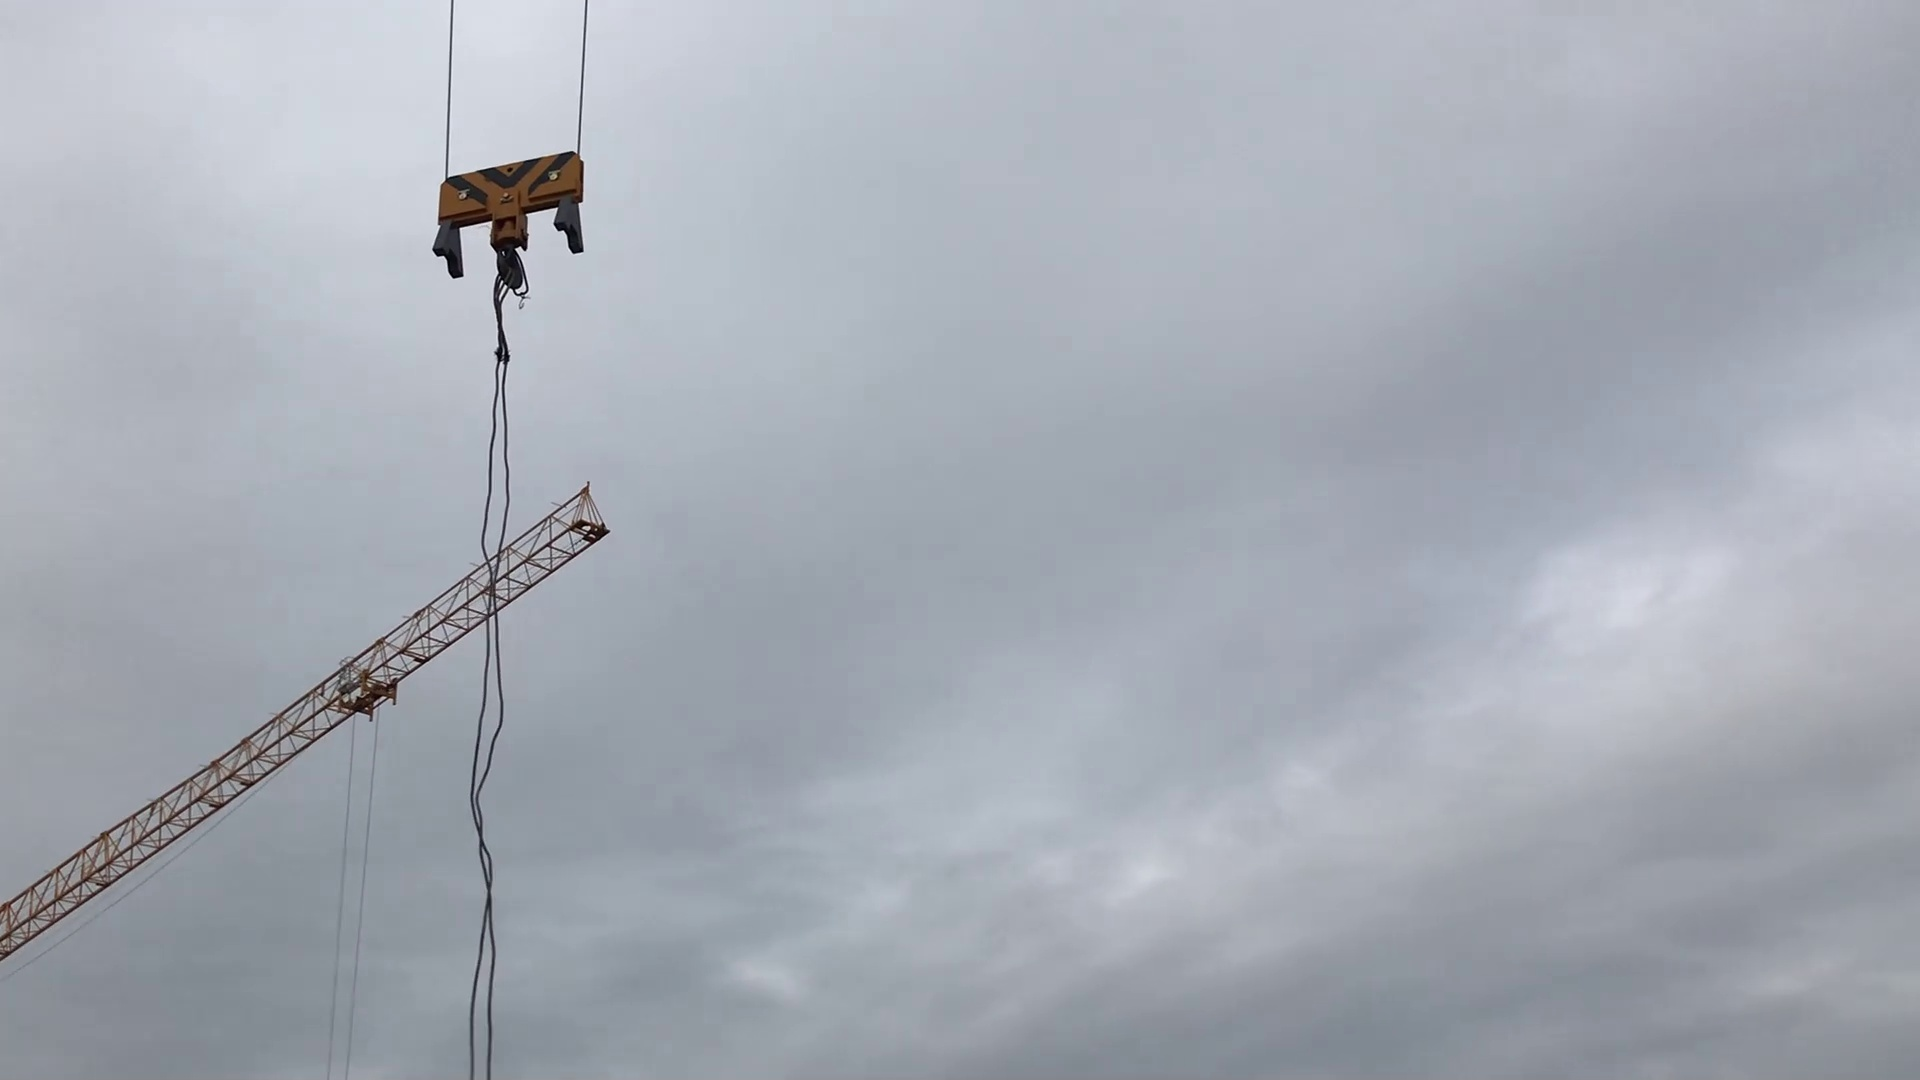hook: (425, 145, 599, 307)
